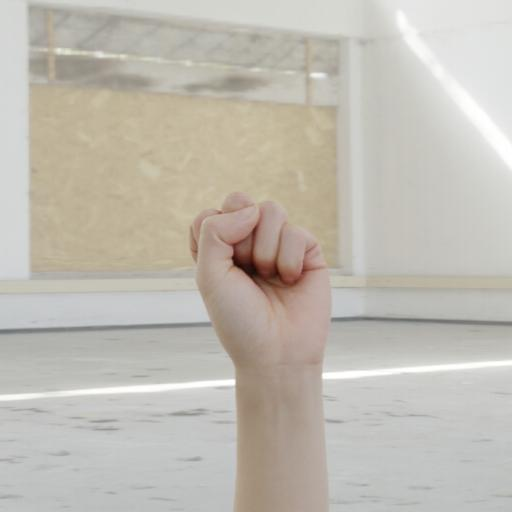S: (168, 160, 351, 388)
